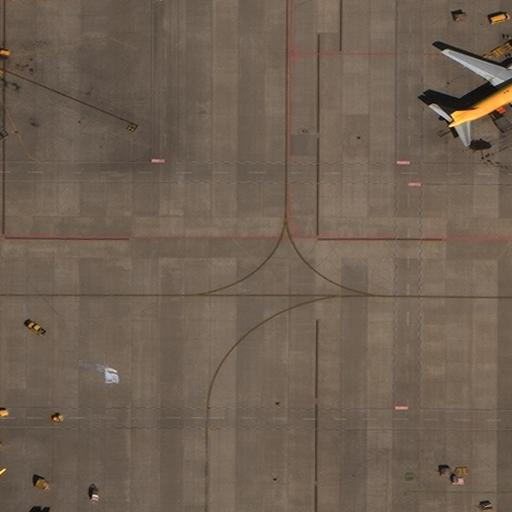Large Civil Transport: (447, 48, 511, 144)
